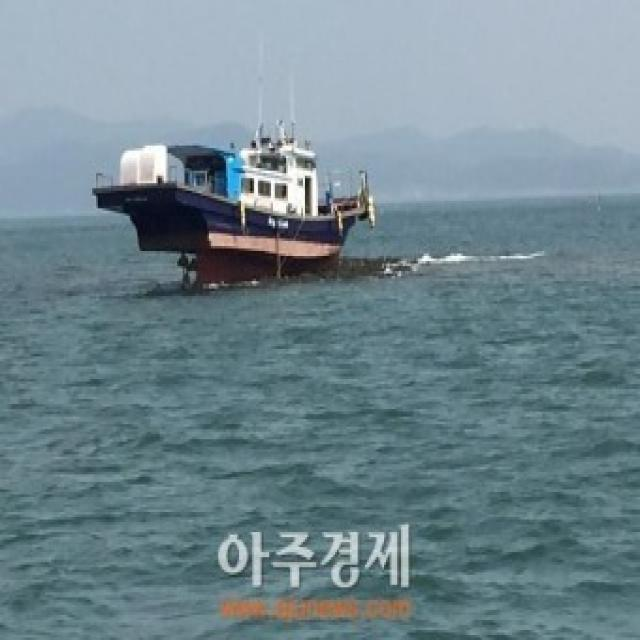Ship: (82, 124, 382, 292)
